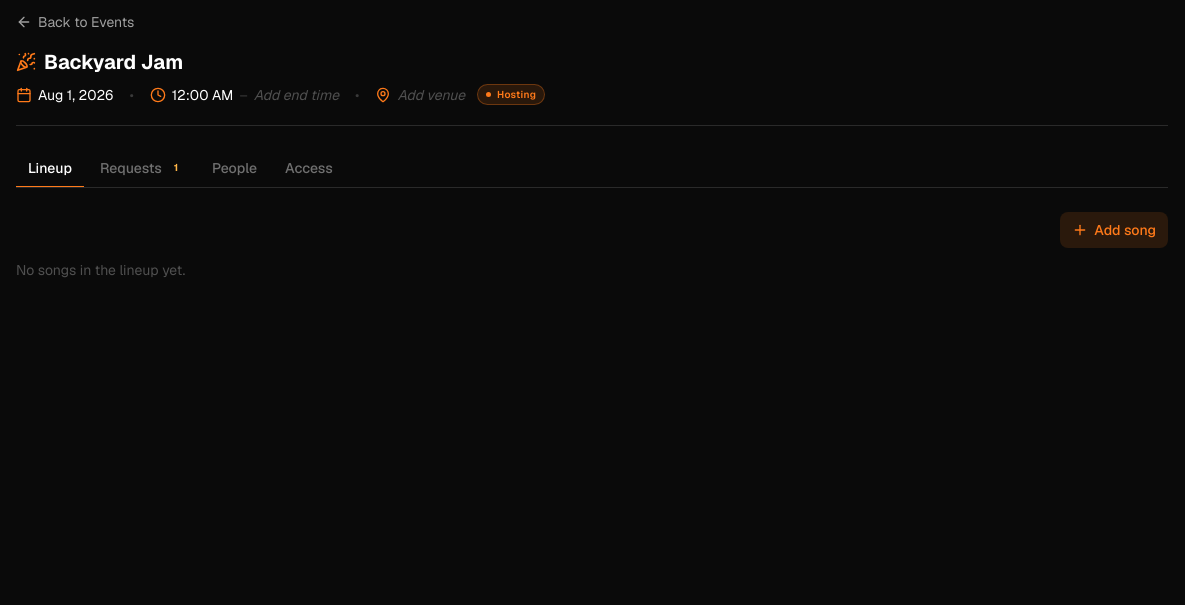
Test: EventDetailPage — requests card offer + approve toast (E) › shows "Offers to play" when the request carries parts
This screenshot has width=1185, height=605.
Click the button with test id "event-tab-requests" at (142, 169), box [88,150,196,188]
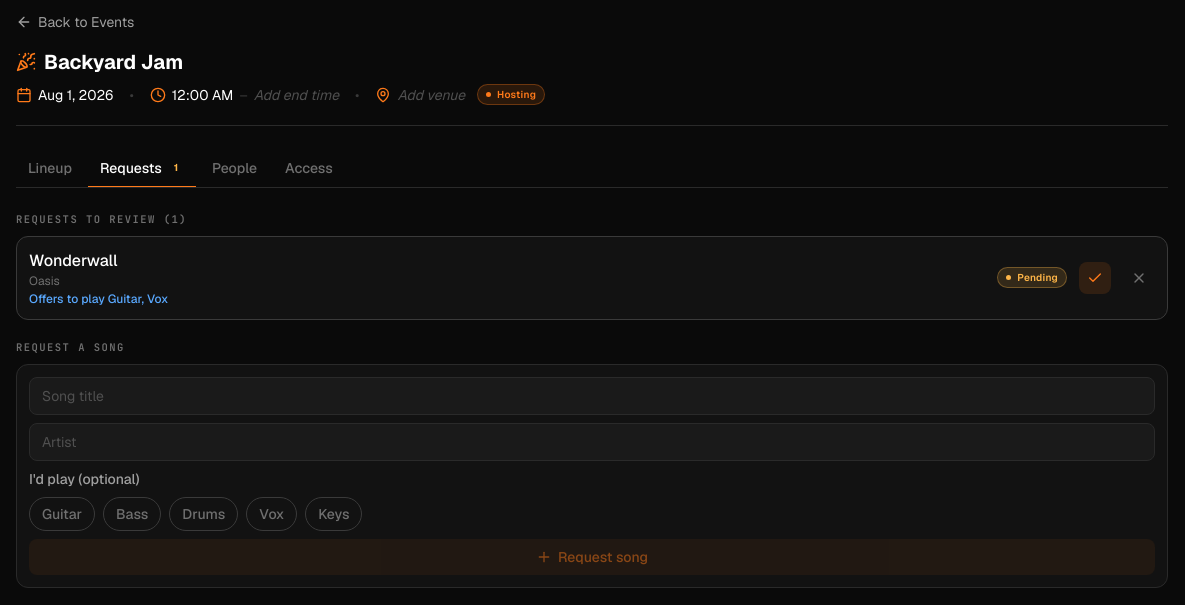
Expected: the text with test id "event-request-offer-r1" reads "Offers to play Guitar, Vox", [29,291,168,307]
